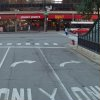crosswalk: (0, 42, 59, 46)
